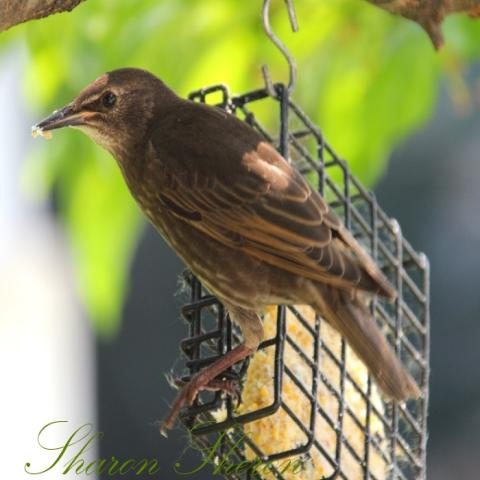bird: (30, 64, 422, 422)
